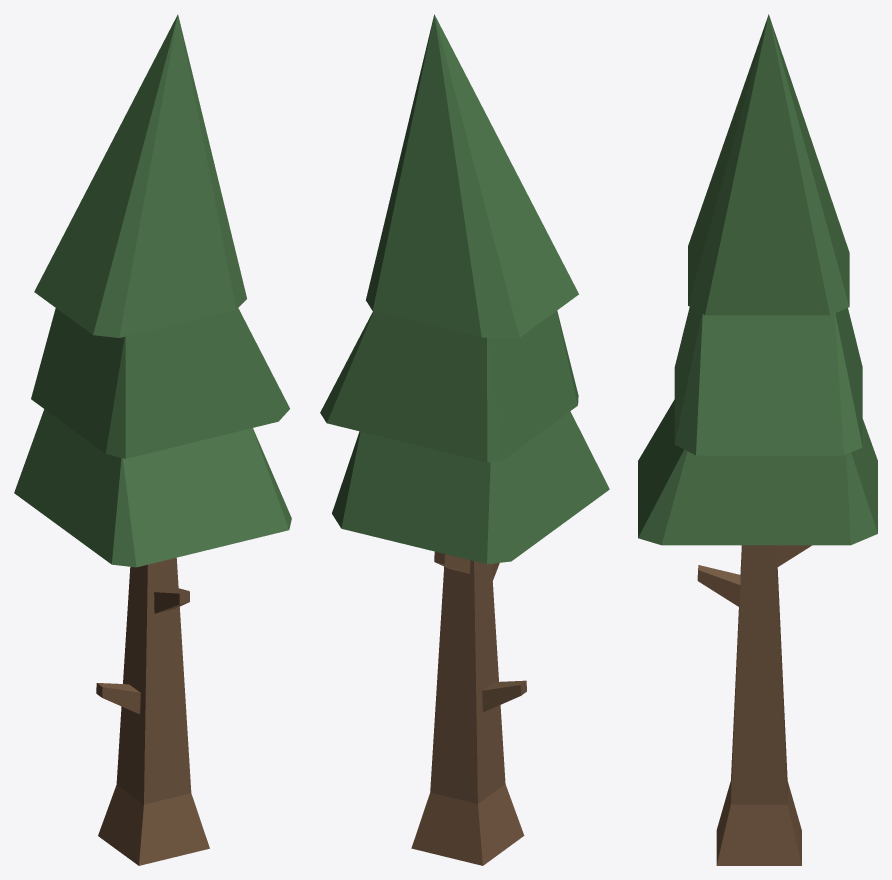
The model's file is tree_pineTallA_detailed.glb.
3 views of the same model, side by side, from view 1: azimuth 30°, elevation 25°; view 2: azimuth 150°, elevation 25°; view 3: azimuth 270°, elevation 25° (orthographic). The views are drawn at different scales.
Parts seen in each view (by area): view 1: tree_pineTallA_detailed; view 2: tree_pineTallA_detailed; view 3: tree_pineTallA_detailed.
Part boxes in pixels (x1,y1,x2,y2): tree_pineTallA_detailed: (14, 14, 291, 865); tree_pineTallA_detailed: (320, 14, 609, 865); tree_pineTallA_detailed: (638, 14, 877, 865).
Bounding box in the file's own units: 0.3863 × 1.53 × 0.392.
